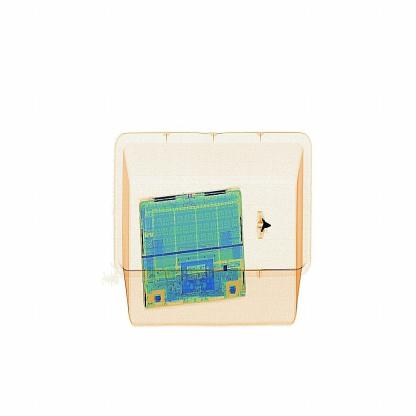gun: (253, 203, 281, 245)
